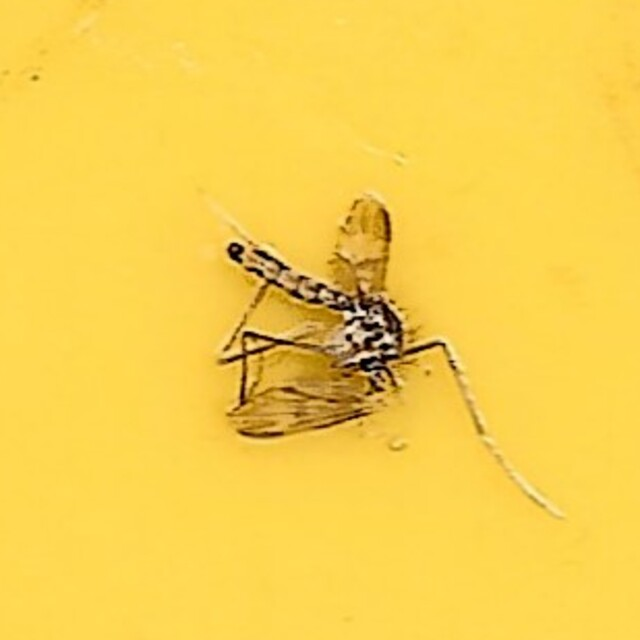Nematocera: (207, 193, 433, 447)
